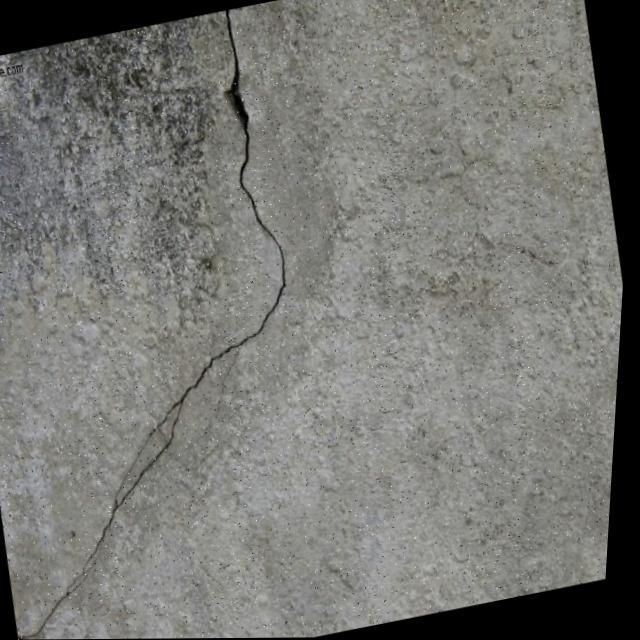Crack: (0, 1, 388, 640)
